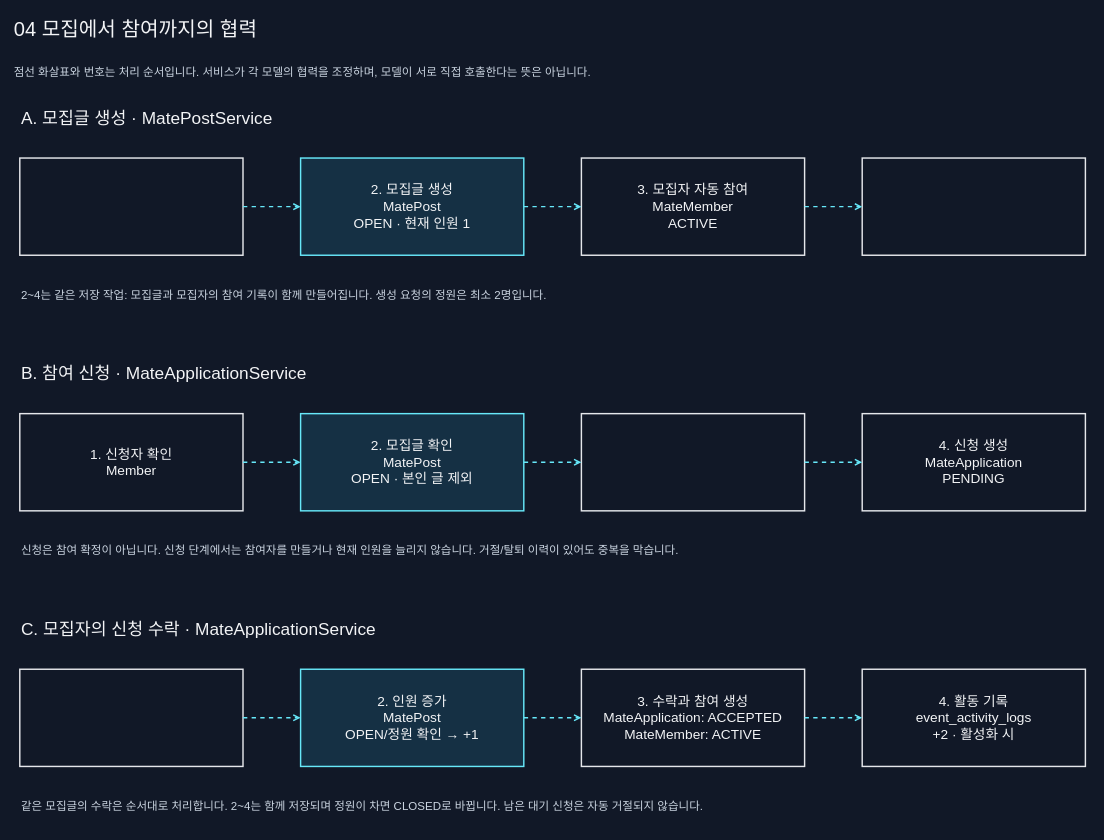
Some shapes in this 1104 by 840 pixel diagram are drawn without their labels. Here are the shapes that lost their labels. From the top down, the centre of each, then its label:
At (x=131, y=206): "1. 회원 확인 Member".
At (x=973, y=206): "4. 활동 기록 event_activity_logs +5 · 활성화 시".
At (x=692, y=462): "3. 중복 이력 확인 MateApplication MateMember".
At (x=131, y=717): "1. 수락 조건 확인 모집자 본인 · 해당 신청 PENDING · 참여 이력 없음".
